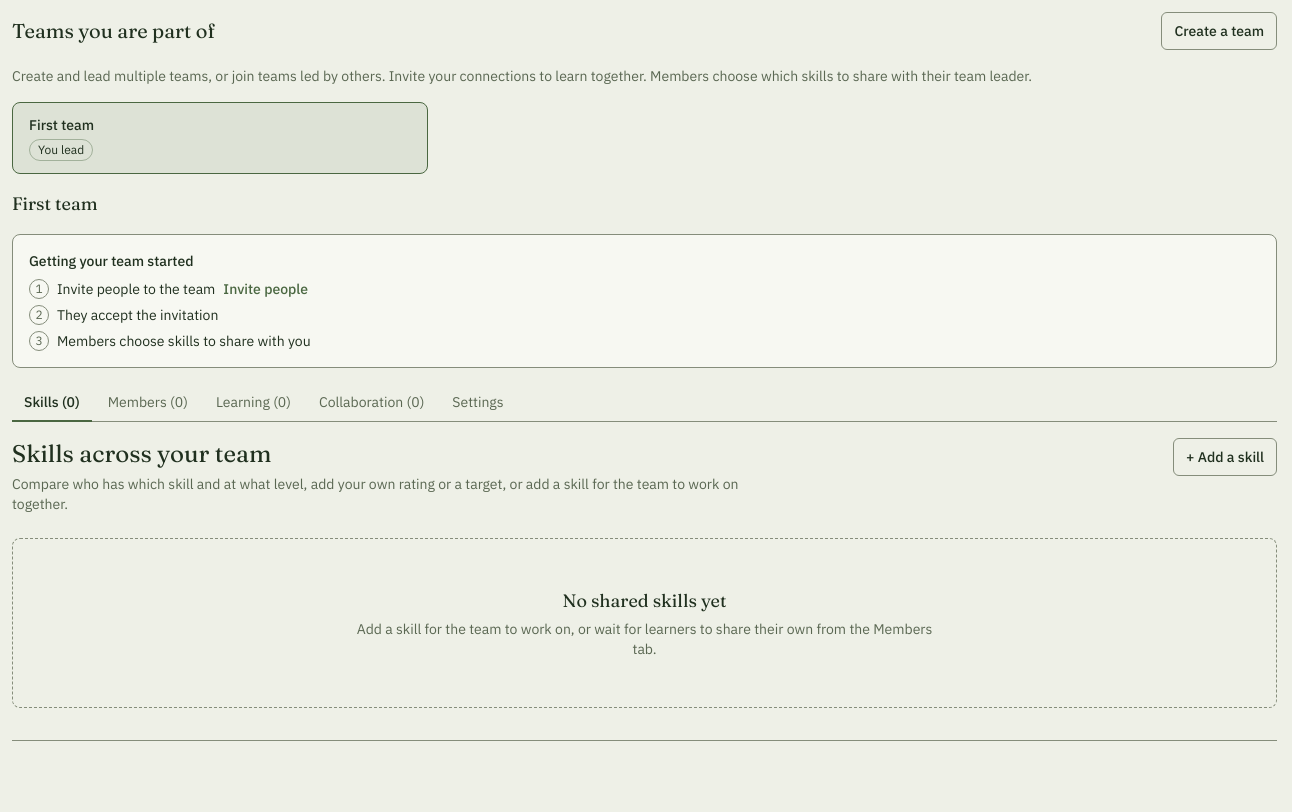
Test: Connections teams › resends a pending invitation from the Members tab
The width and height of the screenshot is (1292, 812).
Click the tab "Members (0)" at (148, 403), box 96,384 -> 200,422
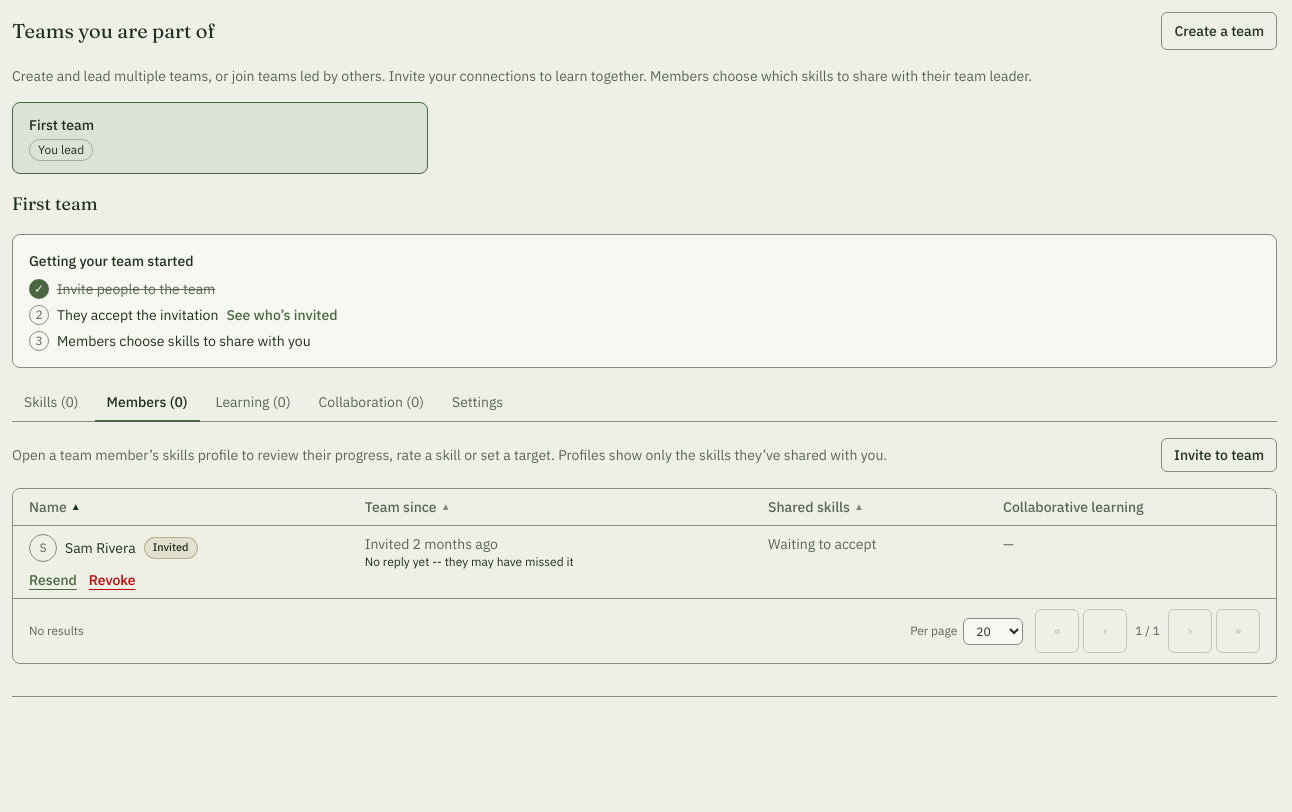
Click the button with aria-label "Resend invitation to Sam Rivera" at (53, 580), box 29,570 -> 77,590
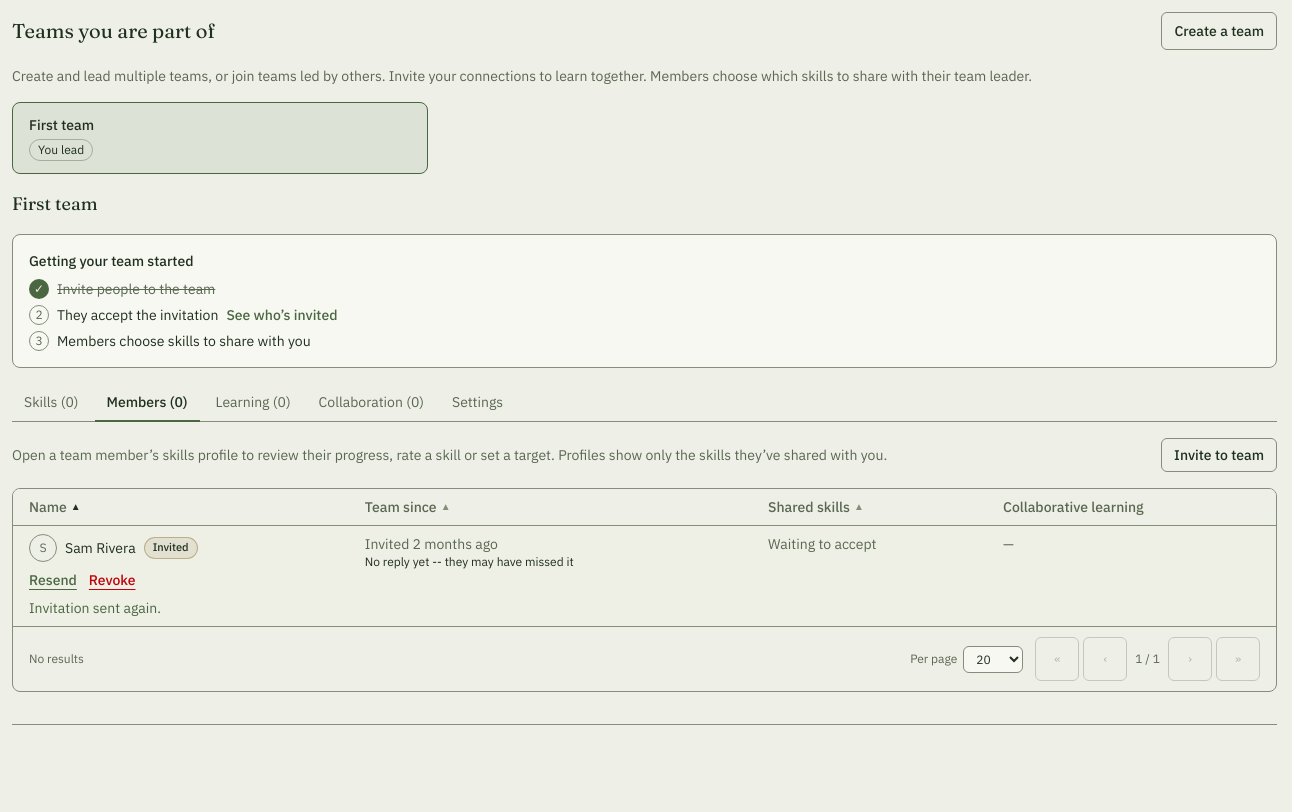
Now the text "Invitation sent again." is shown, box 29,599 -> 161,617
